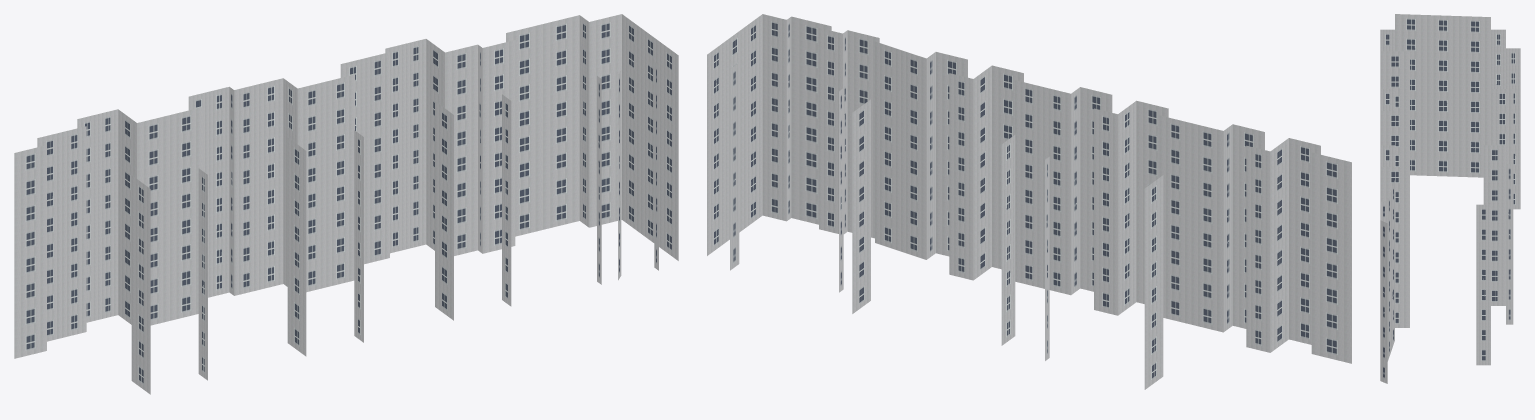
3 renders of one model, left to right at view 1: azimuth 30°, elevation 25°; view 2: azimuth 150°, elevation 25°; view 3: azimuth 270°, elevation 25°, orthographic. The views are drawn at different scales.
Bounding box in the file's own units: 74 × 24 × 19.
2 materials, 1 textured.
